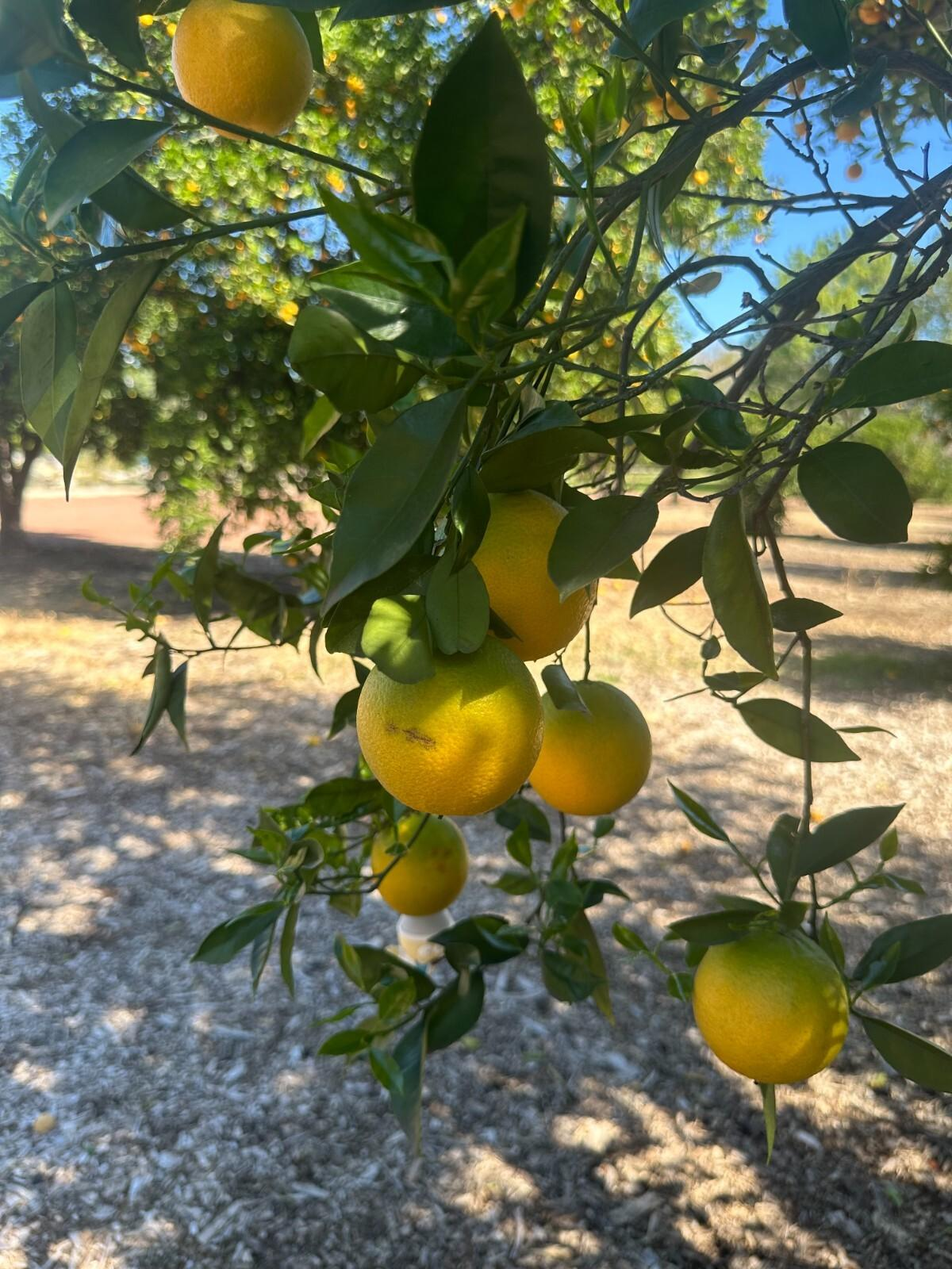orange: (357, 641, 543, 815), (455, 482, 597, 662), (693, 926, 848, 1083), (170, 1, 314, 141), (529, 680, 654, 814), (371, 811, 468, 916)
